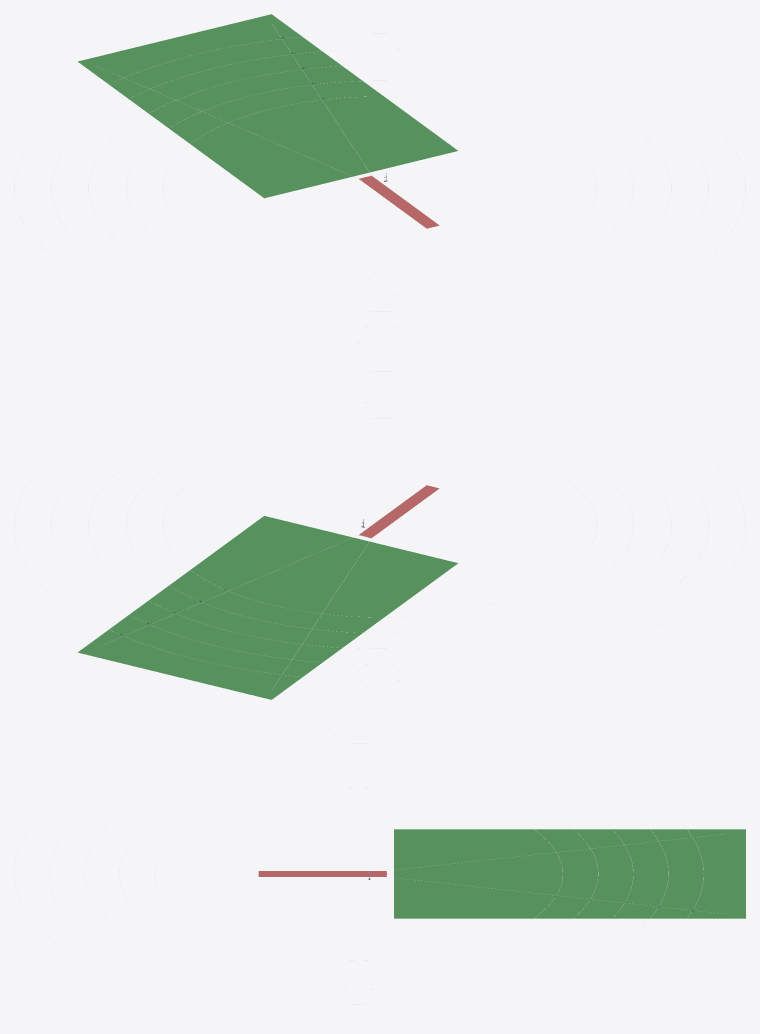
File: Javelin Setup.glb
3 views of the same model, one above another, from view 1: azimuth 30°, elevation 25°; view 2: azimuth 150°, elevation 25°; view 3: azimuth 270°, elevation 25° (orthographic). The views are drawn at different scales.
Parts seen in each view (by area): view 1: Jav_Landing_Field, Jav_Runway; view 2: Jav_Landing_Field, Jav_Runway; view 3: Jav_Landing_Field, Jav_Runway.
Boxes of the visible parts, <box> form: Jav_Landing_Field: <box>78,14,457,198</box>; Jav_Runway: <box>359,175,439,228</box>; Jav_Landing_Field: <box>78,516,457,699</box>; Jav_Runway: <box>359,485,439,538</box>; Jav_Landing_Field: <box>394,829,745,918</box>; Jav_Runway: <box>258,871,386,876</box>.
Bounding box in the file's own units: 196 × 2.58 × 208.
